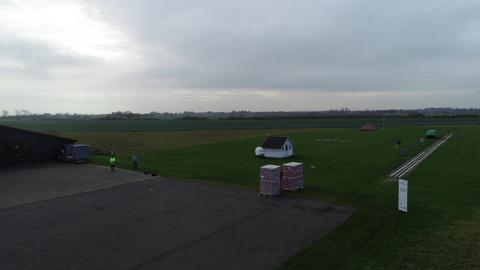RockwoolPallet: (282, 161, 301, 191)
